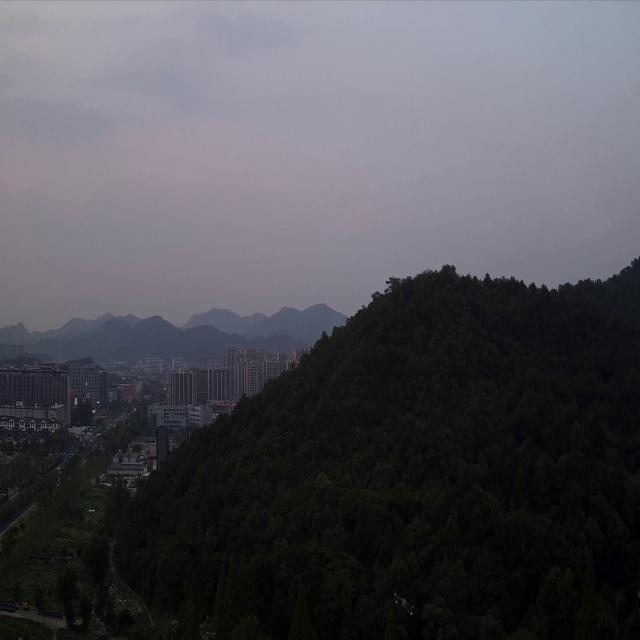UAV: (393, 592, 415, 616)
